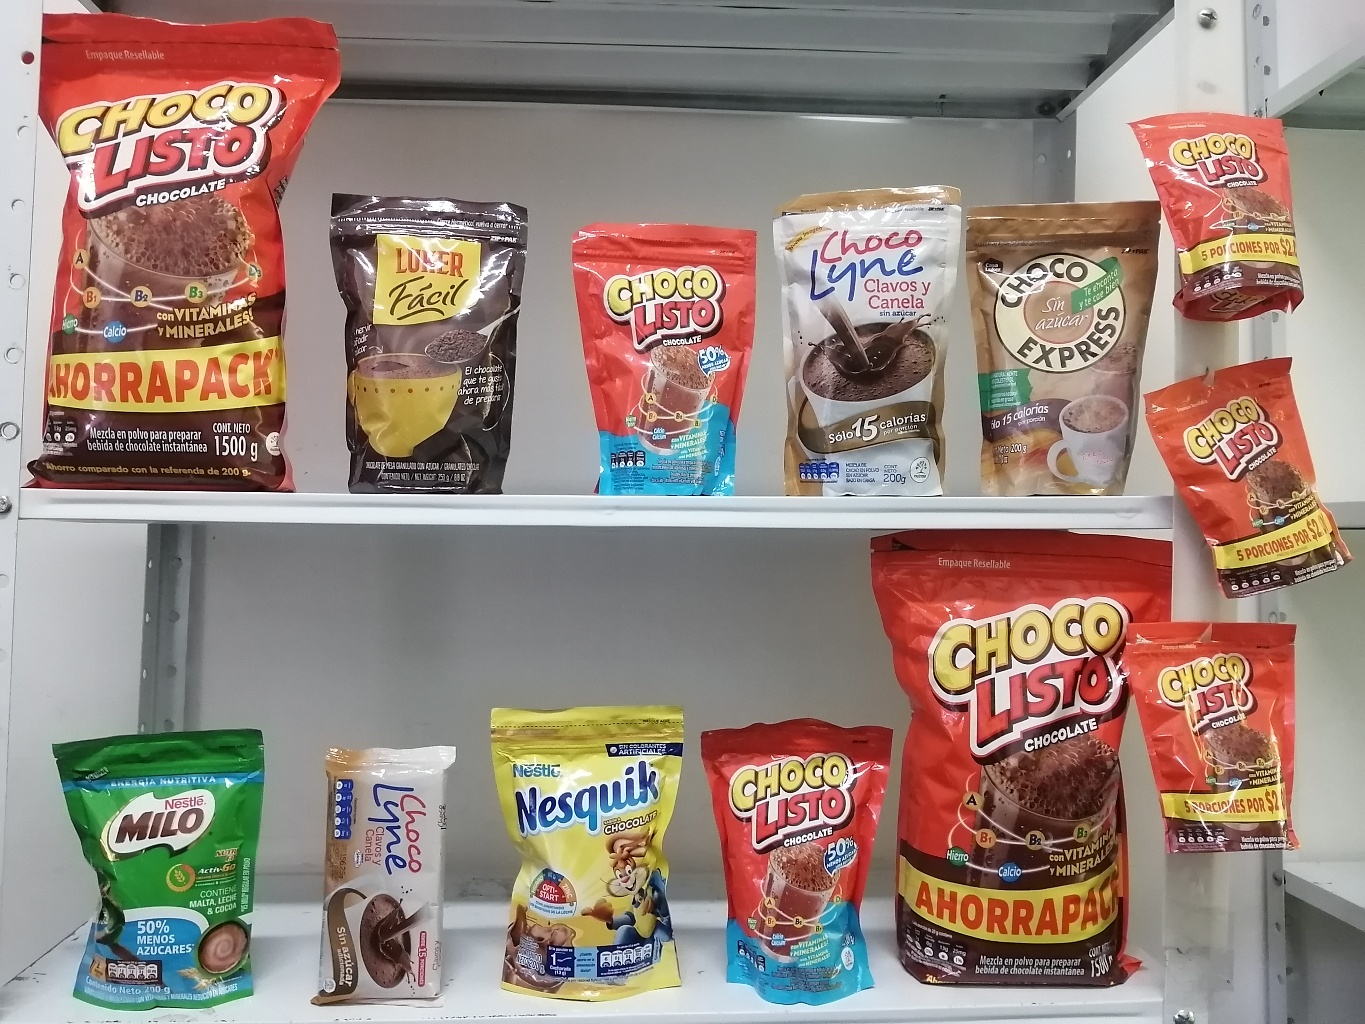COL0170103DYP1,500: (35, 8, 336, 494)
COL0170104DYP20000: (561, 201, 755, 494)
COL0170205DYP20000: (44, 715, 270, 1018)
COL0170303DYP20000: (478, 683, 692, 999)
